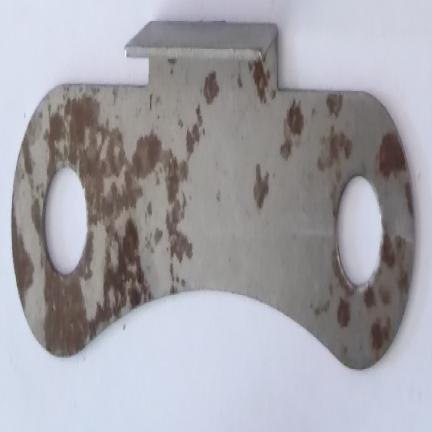besi_tidak_karat: (125, 21, 277, 59)
karat: (40, 100, 193, 357)
